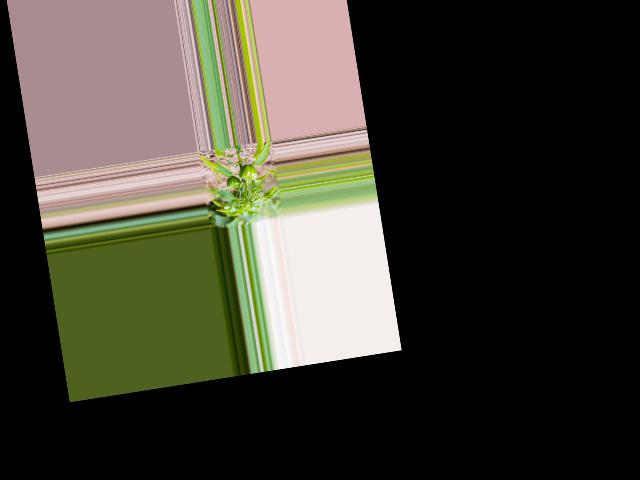bell_pepper: (224, 174, 241, 190)
